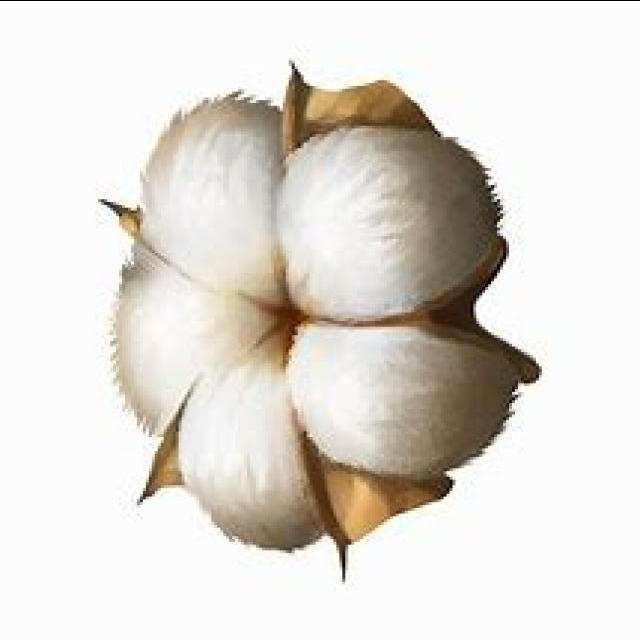Matured Cotton Boll: (95, 86, 543, 558)
